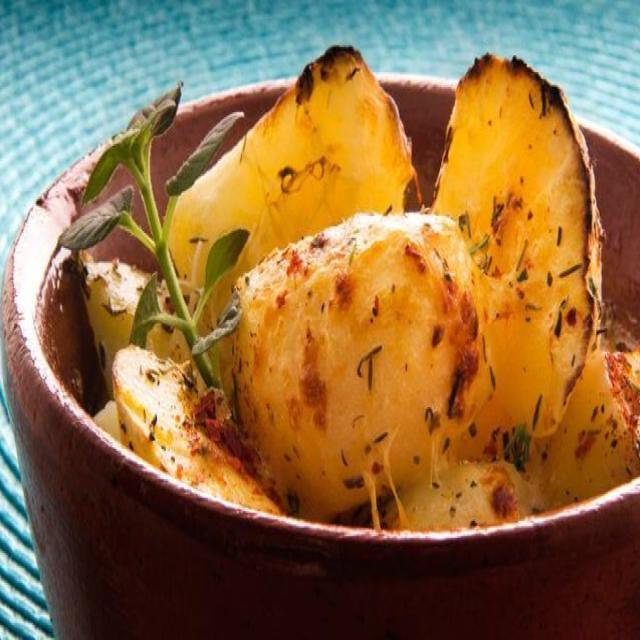papa: (89, 43, 623, 519)
